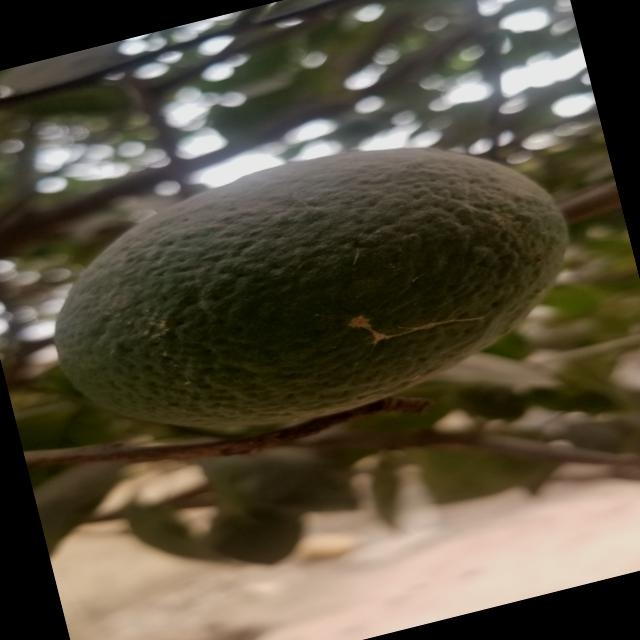agrume: (31, 96, 616, 476)
